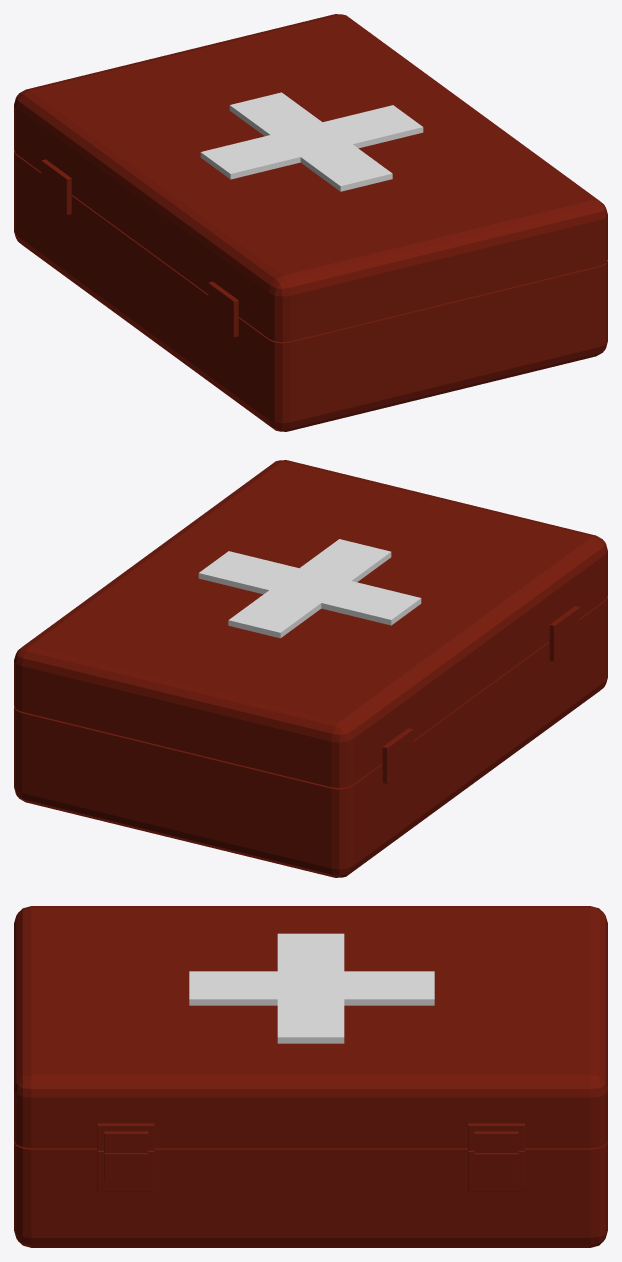
File: first aid.fbx
3 renders of one model, top to bottom at view 1: azimuth 30°, elevation 25°; view 2: azimuth 150°, elevation 25°; view 3: azimuth 270°, elevation 25°, orthographic. The views are drawn at different scales.
Visible parts, largest first — view 1: Cube.001, Cube.002; view 2: Cube.001, Cube.002; view 3: Cube.001, Cube.002.
Part boxes in pixels (x1,y1,x2,y2): Cube.001: (14, 14, 607, 342); Cube.002: (14, 151, 607, 431); Cube.001: (14, 460, 607, 788); Cube.002: (14, 597, 607, 877); Cube.001: (14, 906, 607, 1152); Cube.002: (14, 1141, 607, 1247).
Bounding box in the file's own units: 328 × 146 × 435.
